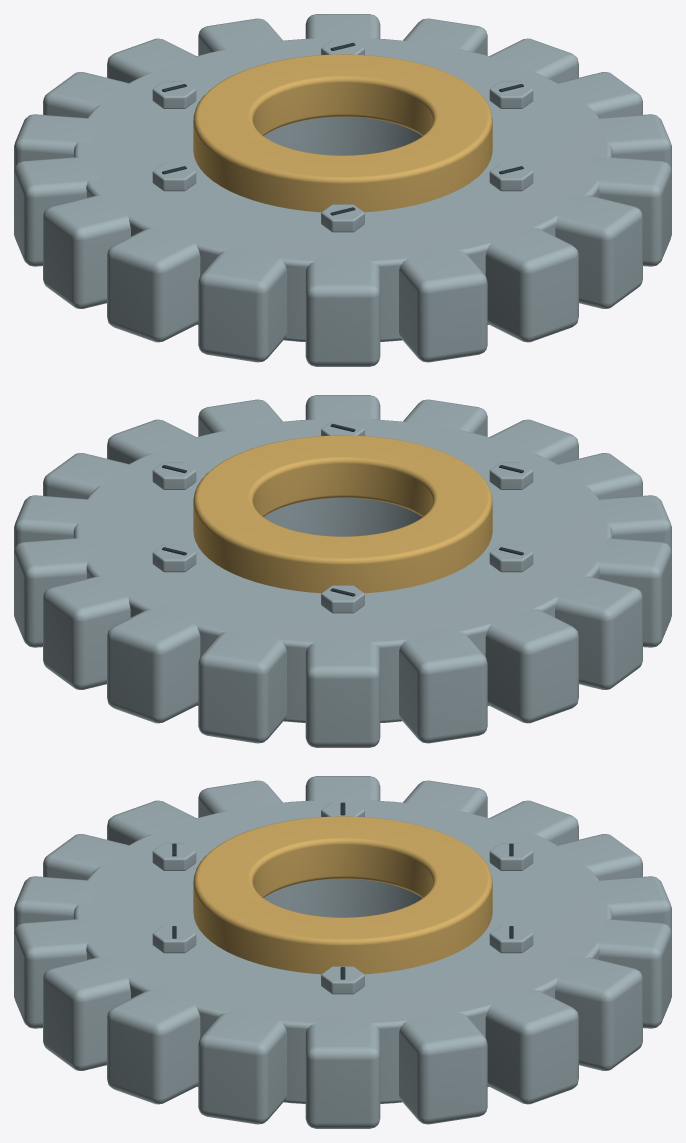
Rendered from SM_VGear.fbx.
The picture shows the model from 3 angles, top to bottom: view 1: azimuth 30°, elevation 25°; view 2: azimuth 150°, elevation 25°; view 3: azimuth 270°, elevation 25°; orthographic projection.
Visible parts, largest first — view 1: SM_VGear; view 2: SM_VGear; view 3: SM_VGear.
Boxes of the visible parts, bbox=[...] form: SM_VGear: bbox=[14, 14, 671, 366]; SM_VGear: bbox=[14, 395, 671, 747]; SM_VGear: bbox=[14, 776, 671, 1128].
Bounding box in the file's own units: 44 × 43.96 × 8.5.
